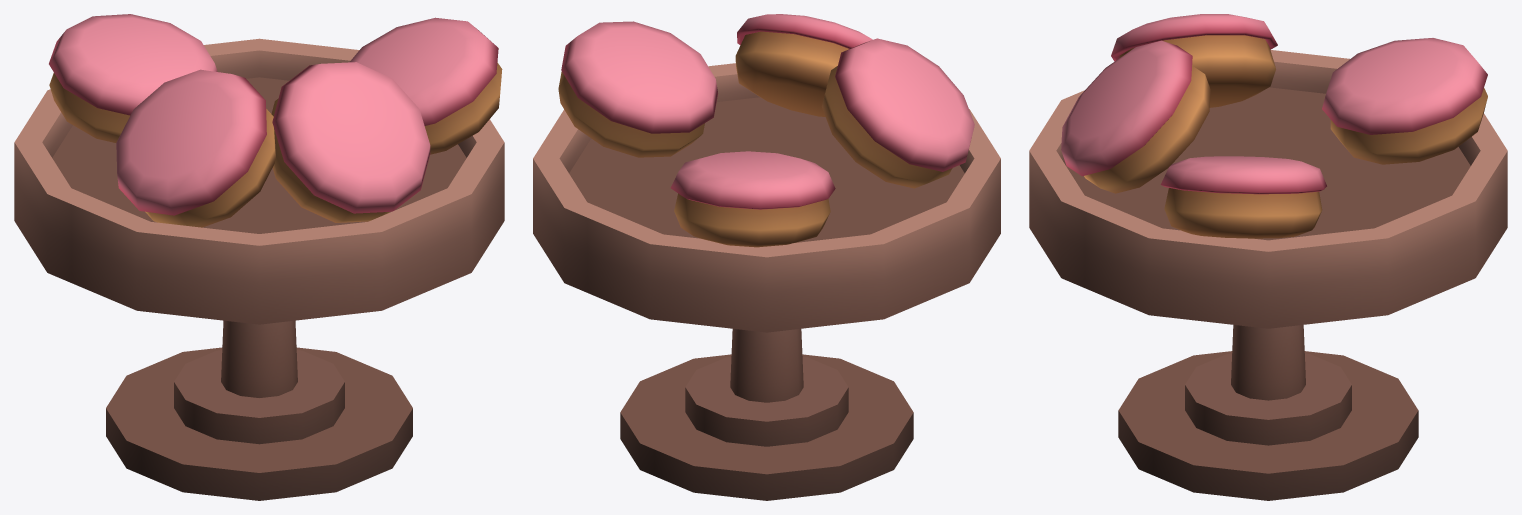
File: Macarons.fbx
3 views of the same model, side by side, from view 1: azimuth 30°, elevation 25°; view 2: azimuth 150°, elevation 25°; view 3: azimuth 270°, elevation 25° (orthographic). The views are drawn at different scales.
Visible parts, largest first — view 1: Cylinder.058, Cylinder.064, Cylinder.061, Cylinder.062, Cylinder.063; view 2: Cylinder.058, Cylinder.063, Cylinder.061, Cylinder.062, Cylinder.064; view 3: Cylinder.058, Cylinder.062, Cylinder.064, Cylinder.063, Cylinder.061.
Part boxes in pixels (box(x1,y1,x2,y2)): Cylinder.058: box(14, 38, 504, 500); Cylinder.064: box(271, 62, 430, 222); Cylinder.061: box(116, 69, 275, 227); Cylinder.062: box(49, 14, 217, 142); Cylinder.063: box(349, 17, 502, 154); Cylinder.058: box(533, 63, 1000, 500); Cylinder.063: box(558, 21, 717, 157); Cylinder.061: box(821, 38, 974, 188); Cylinder.062: box(670, 151, 835, 247); Cylinder.064: box(735, 14, 872, 116); Cylinder.058: box(1029, 50, 1507, 500); Cylinder.062: box(1322, 38, 1487, 164); Cylinder.064: box(1061, 40, 1210, 193); Cylinder.063: box(1160, 156, 1326, 238); Cylinder.061: box(1111, 14, 1277, 107).
Size of the model in its own units: 18.25 by 16.32 by 17.96.
